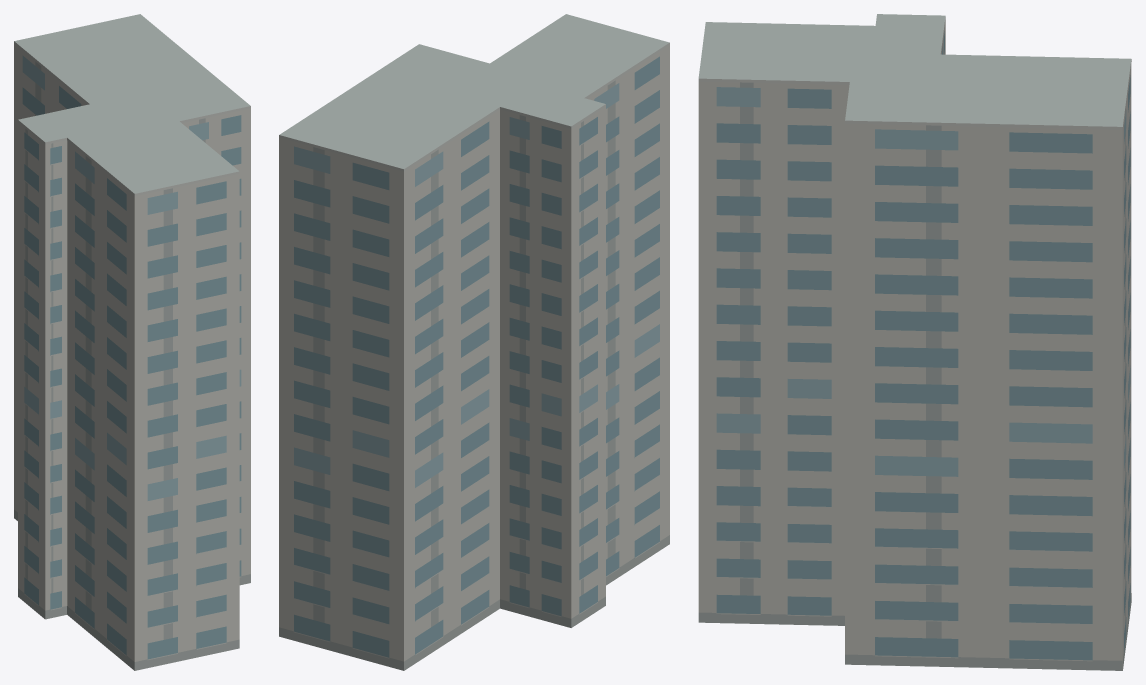
The model's file is residential-89d29ada-f119-475d-80b0-ab15006cd34e.glb.
3 renders of one model, left to right at view 1: azimuth 30°, elevation 25°; view 2: azimuth 150°, elevation 25°; view 3: azimuth 270°, elevation 25°, orthographic. The views are drawn at different scales.
Visible parts, largest first — view 1: residential-89d29ada-f119-475d-80b0-ab15006cd34e.tmp; view 2: residential-89d29ada-f119-475d-80b0-ab15006cd34e.tmp; view 3: residential-89d29ada-f119-475d-80b0-ab15006cd34e.tmp.
Part boxes in pixels (x1,y1,x2,y2): residential-89d29ada-f119-475d-80b0-ab15006cd34e.tmp: (14,14,250,670); residential-89d29ada-f119-475d-80b0-ab15006cd34e.tmp: (279,14,669,670); residential-89d29ada-f119-475d-80b0-ab15006cd34e.tmp: (698,14,1131,670).
Bounding box in the file's own units: 20.38 × 45.75 × 33.01.
